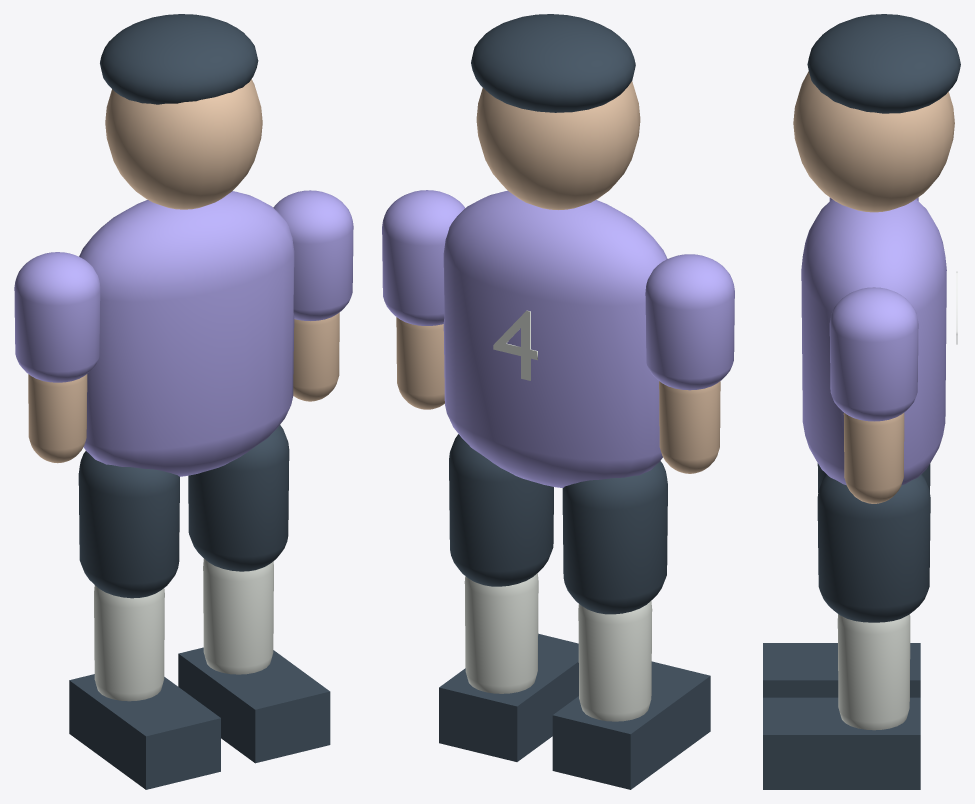
The model's file is Player_Purple.fbx.
3 views of the same model, side by side, from view 1: azimuth 30°, elevation 25°; view 2: azimuth 150°, elevation 25°; view 3: azimuth 270°, elevation 25° (orthographic). The views are drawn at different scales.
Visible parts, largest first — view 1: Jersey, Head, Shorts_Left, Boot_Left, Hair, Boot_Right, Shorts_Right, Sleeve_Left, Sleeve_Right, Sock_Right, Sock_Left, Forearm_Left (+1 smaller); view 2: Jersey, Head, Shorts_Left, Hair, Shorts_Right, Boot_Left, Sleeve_Left, Boot_Right, Sleeve_Right, Sock_Left, Sock_Right, Forearm_Left (+2 smaller); view 3: Jersey, Head, Shorts_Right, Boot_Right, Hair, Sleeve_Right, Sock_Right, Forearm_Right, Boot_Left.
Part boxes in pixels (x1,y1,x2,y2): Jersey: (79,191,294,476); Head: (105,79,262,209); Shorts_Left: (78,451,179,598); Boot_Left: (69,674,220,789); Hair: (100,14,258,104); Boot_Right: (178,647,330,763); Shorts_Right: (188,425,289,571); Sleeve_Left: (14,252,100,382); Sleeve_Right: (273,190,353,320); Sock_Right: (203,558,273,674); Sock_Left: (94,585,164,701); Forearm_Left: (28,374,87,463); Jersey: (443,190,667,487); Head: (476,81,640,209); Shorts_Left: (562,461,667,614); Hair: (471,14,635,112); Shorts_Right: (449,434,553,586); Boot_Left: (552,661,710,789); Sleeve_Left: (645,254,734,390); Boot_Right: (439,633,578,761); Sleeve_Right: (382,190,465,325); Sock_Left: (578,601,652,721); Sock_Right: (464,573,538,693); Forearm_Left: (659,381,720,473); Jersey: (801,199,946,485); Head: (793,71,954,212); Shorts_Right: (817,474,930,622); Boot_Right: (763,697,920,789); Hair: (807,14,960,113); Sleeve_Right: (829,287,918,421); Sock_Right: (837,614,910,730); Forearm_Right: (843,413,904,503); Boot_Left: (763,643,920,697).
Bounding box in the file's own units: 96 × 195 × 49.
